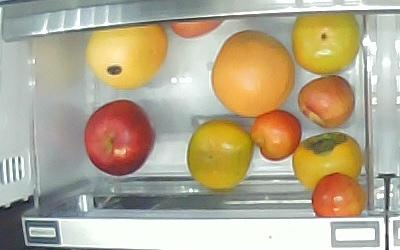apple: (82, 100, 156, 176), (168, 18, 224, 39)
grapefruit: (211, 30, 294, 119), (86, 23, 169, 90)
persimmon: (187, 120, 254, 191), (291, 12, 360, 74), (292, 131, 362, 189)
prune: (297, 74, 355, 129), (250, 110, 302, 161), (311, 171, 363, 216)
